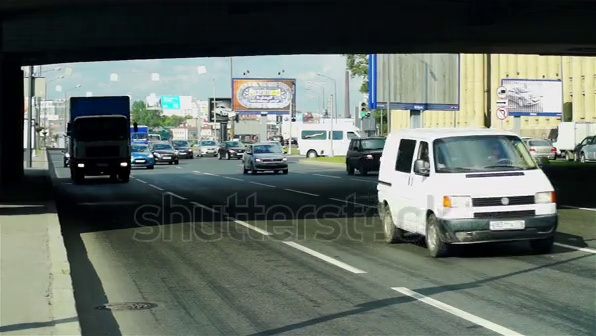licenseplate: (484, 211, 534, 231)
